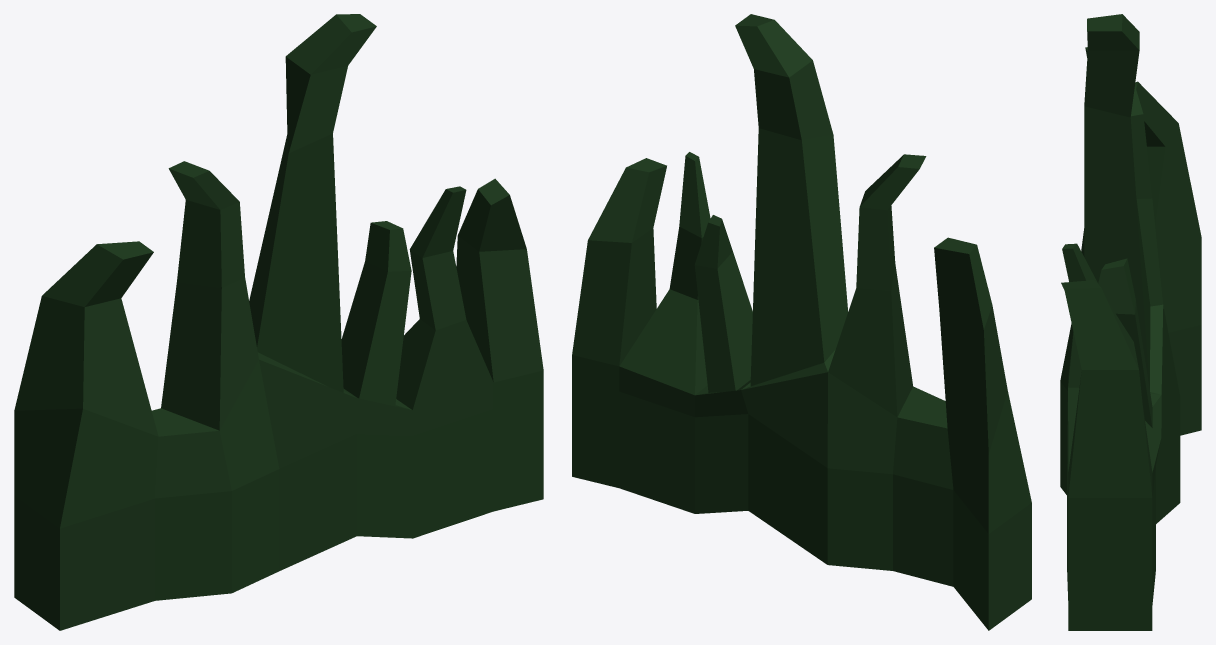
The model's file is groundVines.fbx.
3 renders of one model, left to right at view 1: azimuth 30°, elevation 25°; view 2: azimuth 150°, elevation 25°; view 3: azimuth 270°, elevation 25°, orthographic. The views are drawn at different scales.
Parts seen in each view (by area): view 1: Cube; view 2: Cube; view 3: Cube.
Boxes of the visible parts, x1,y1,x2,y2 form: Cube: [14, 14, 543, 630]; Cube: [572, 14, 1031, 630]; Cube: [1060, 14, 1201, 630].
Size of the model in its own units: 692 by 771 by 177.
